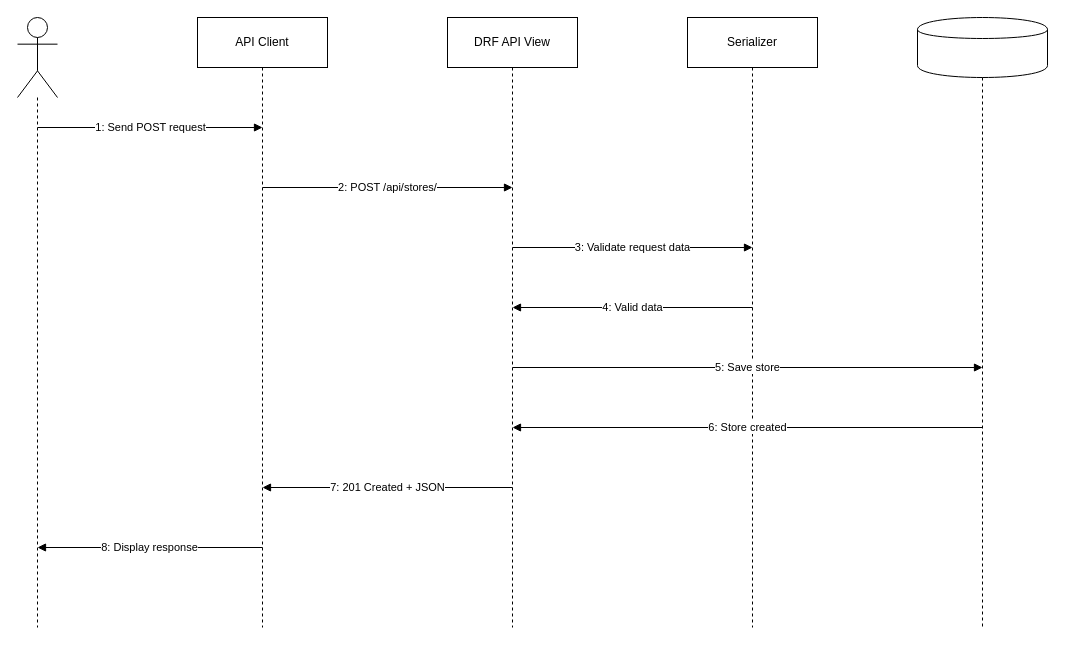
The diagram is 1065 pixels wide and 646 high, and some of its shapes have lost their labels. Here are the shapes that lost their labels. From the top down, the centre of each, then its label:
At point (37, 57): "Vendor".
At point (982, 47): "MariaDB".
